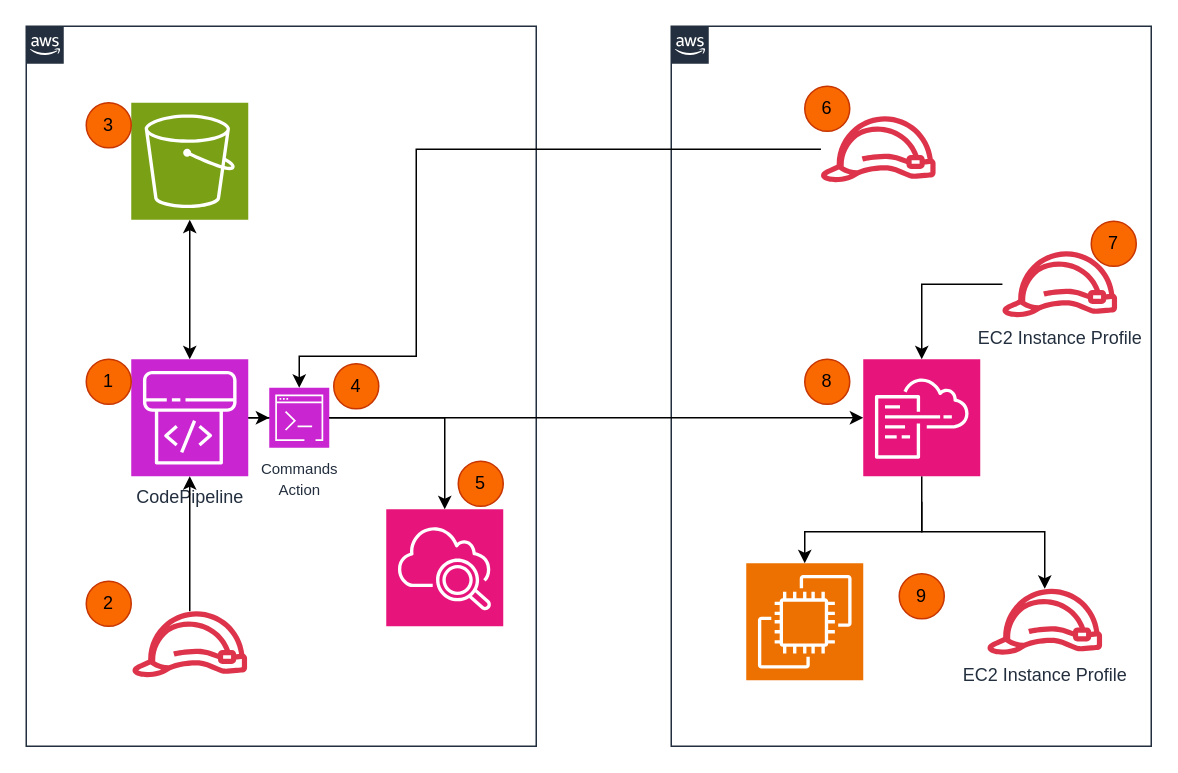
The diagram is 1178 pixels wide and 773 high, and some of its shapes have lost their labels. Each missing label, with the box of its shape:
CloudFormation: (862, 358, 980, 476)
CloudWatch: (385, 508, 503, 626)
CodePipeline Service Role: (130, 610, 248, 676)
Cross-account Role: (819, 116, 936, 182)
EC2 Instance: (745, 562, 863, 680)
Source/CICD Bucket: (130, 101, 248, 220)
